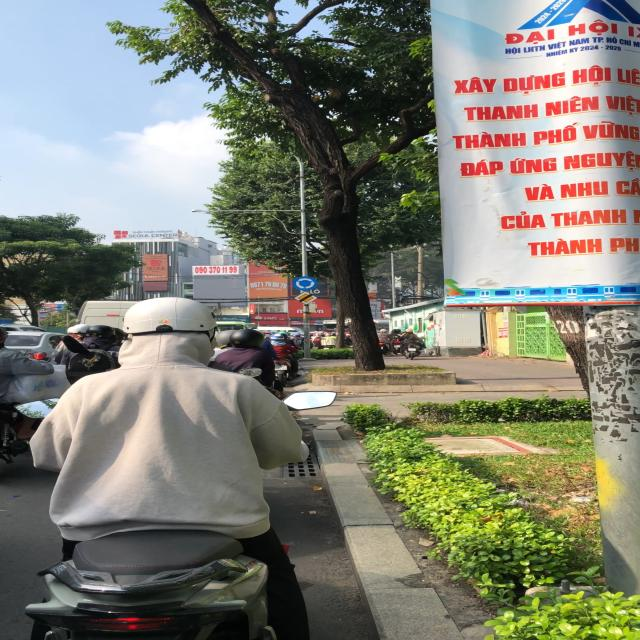Bien bao noi giao nhau chay theo vong xuyen: (290, 275, 320, 291)
